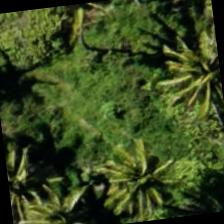Kelapa_Sawit: (86, 135, 186, 223), (149, 26, 223, 124), (3, 139, 71, 223), (15, 179, 111, 223)
